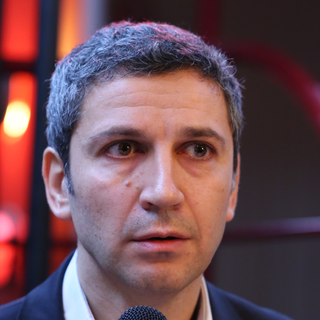eye: (93, 136, 145, 163), (171, 136, 219, 165)
